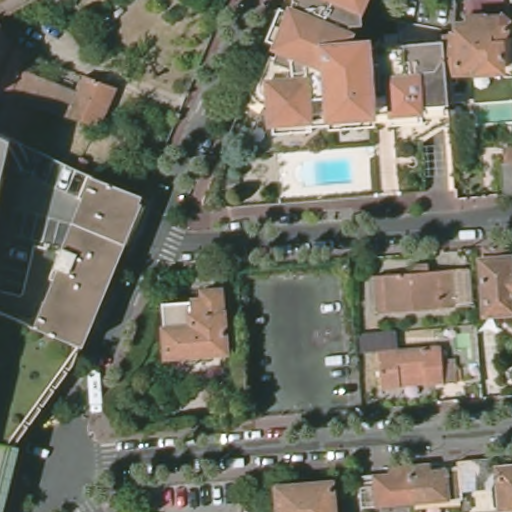pool: (296, 157, 361, 193), (469, 97, 512, 127)
